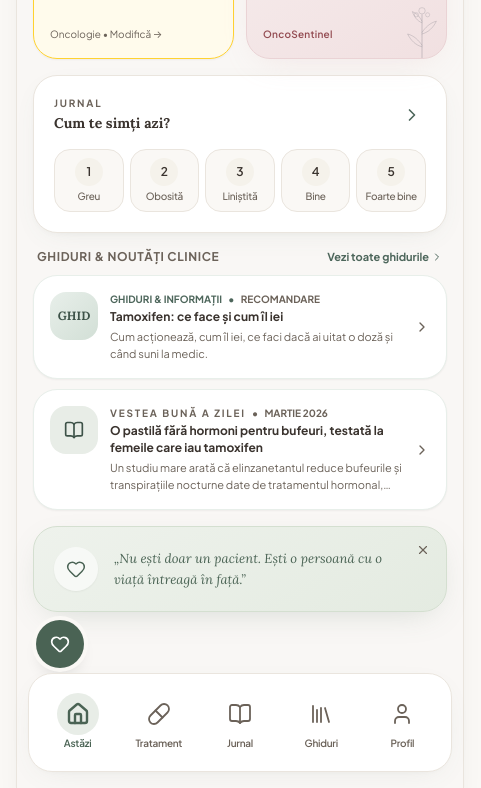
it: Suite de Teste Utilizator E2E - OncoSentinel Flow Complet › 9. Flux Card Control & Dismiss Banner de Inspirație pe 7 zile
(page scrolled)
Expected: the text "Nu ești doar un pacient" is shown, [114,550,382,588]
Note: Închidem bannerul folosind butonul X
Click the button titled "Închide pentru 7 zile" at (423, 550), box [412,539,434,561]
(page scrolled)
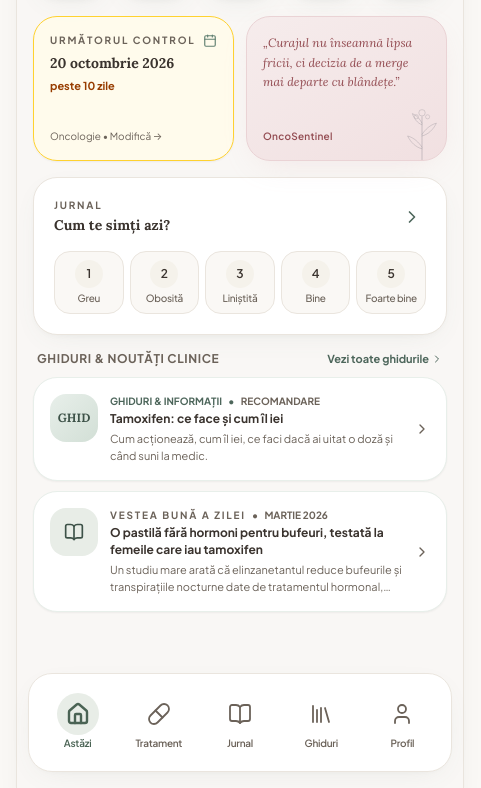
Now the text "Nu ești doar un pacient" is gone
